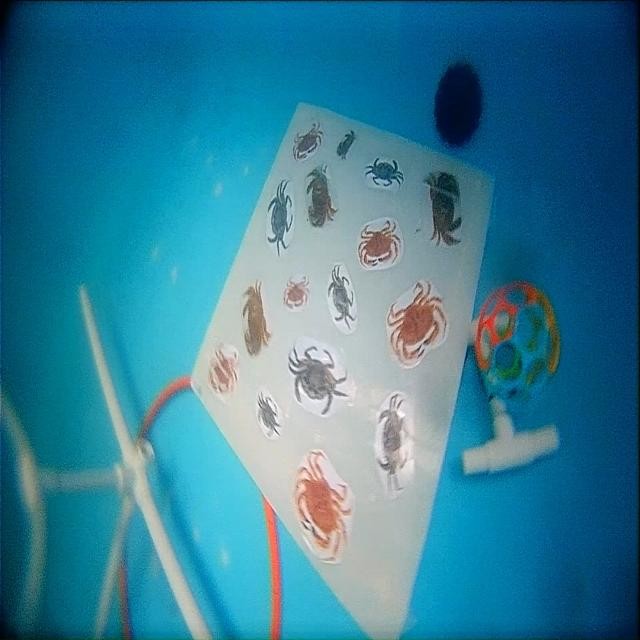GreenCrab: (377, 393, 408, 489), (267, 181, 292, 256), (328, 265, 355, 327), (365, 158, 404, 187), (258, 392, 280, 437)
